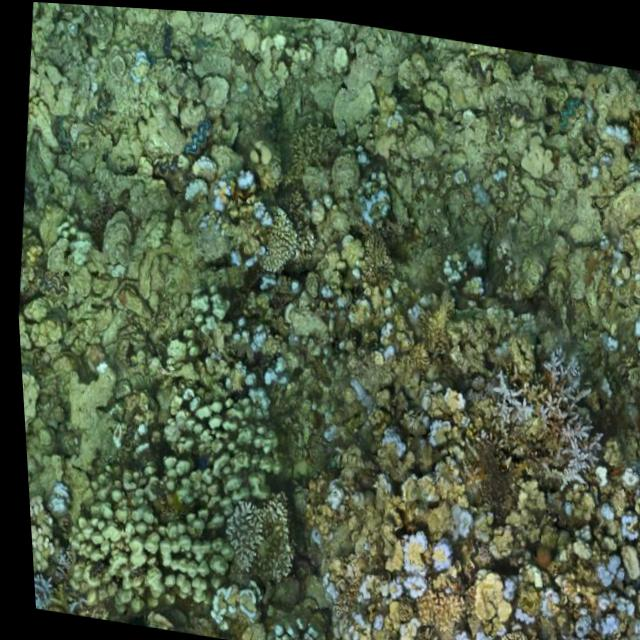Bleached Coral: (524, 328, 601, 483), (391, 521, 421, 597), (422, 528, 445, 569)
